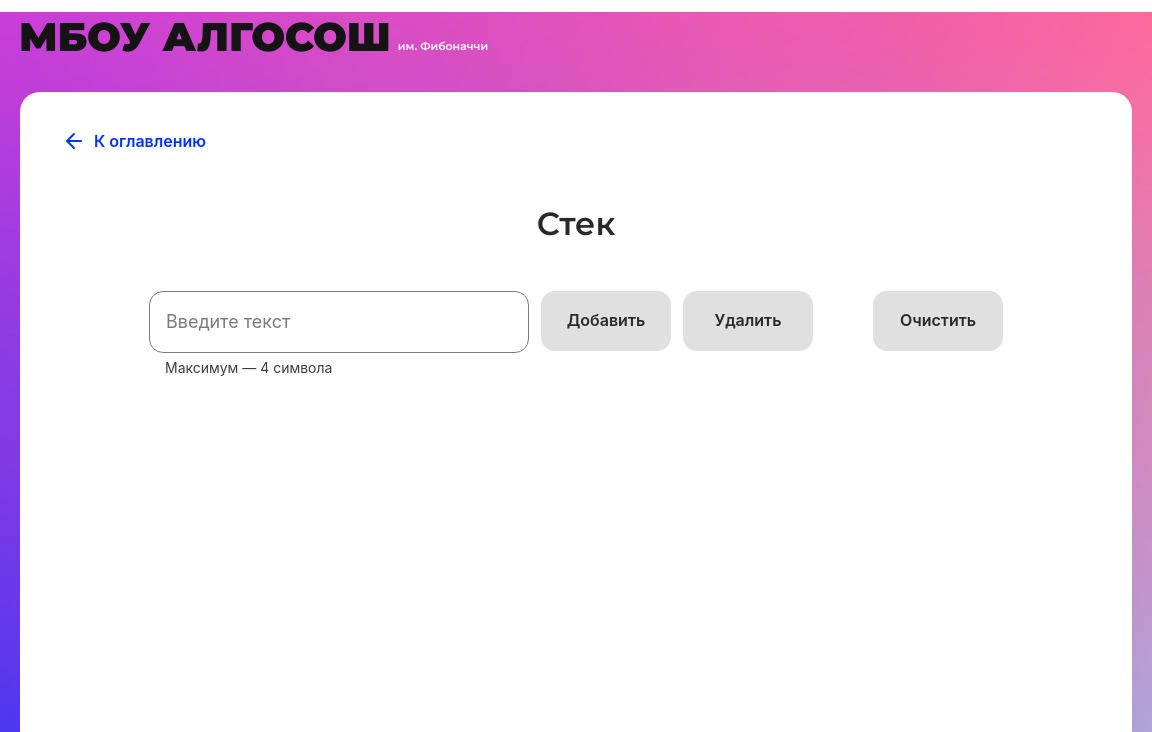
stack works right › stack fills right
This screenshot has width=1152, height=732.
Type "1" into the field with test id "mainInput". click: (339, 322)
box: [149,291,529,353]
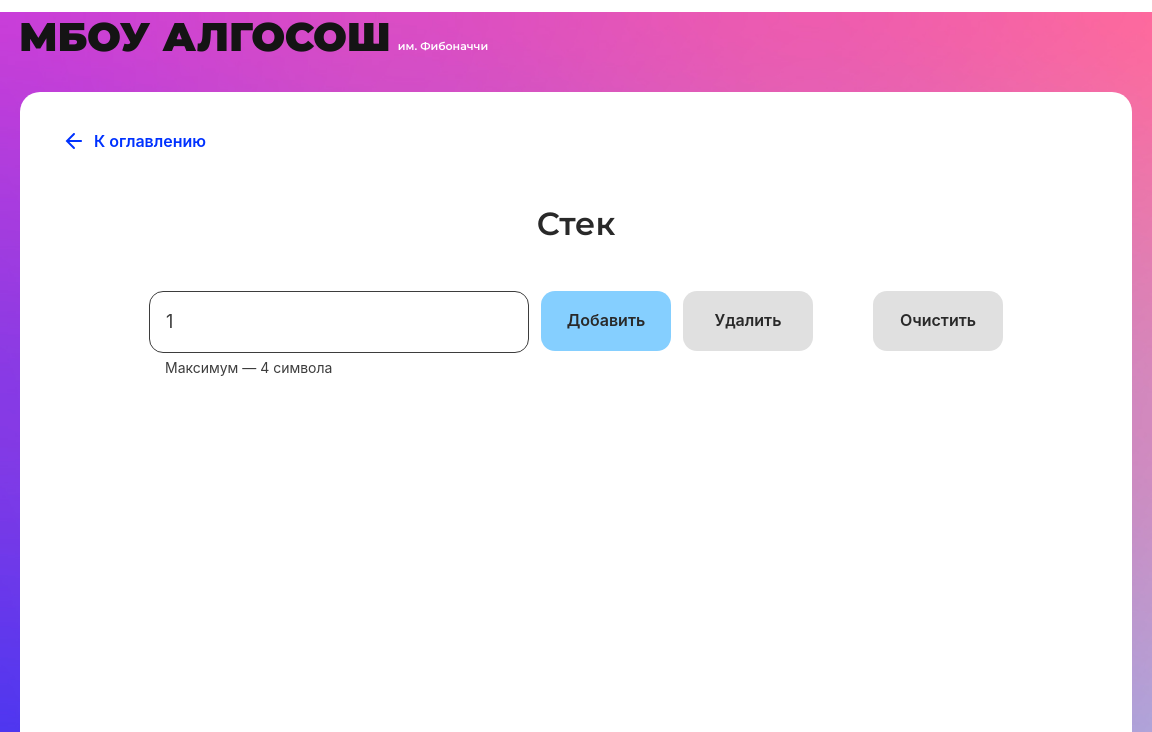
Click the button with test id "actionButton". click: click(606, 321)
box: [541,291,671,351]
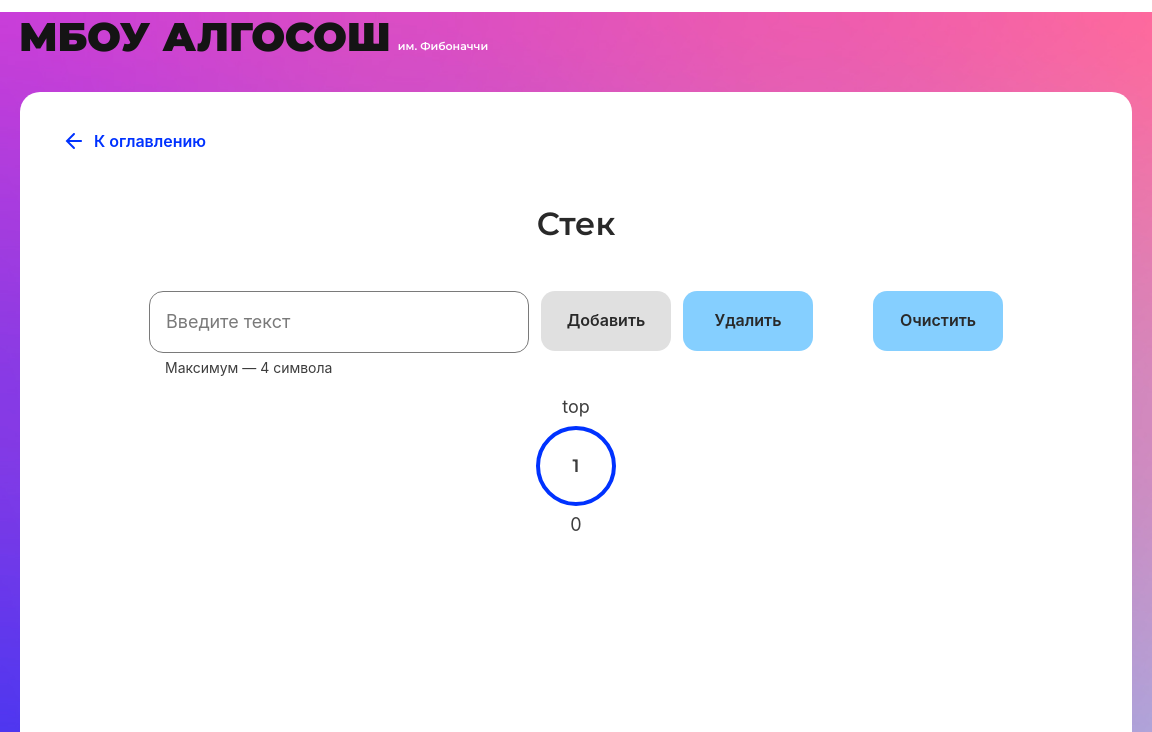
Result: the element with test id "circle" is shown at [536,426,616,506]
Result: the text with test id "circleInsides" reads "1" at [573,455,580,477]
Result: the text with test id "circleHead" reads "top" at [562,396,590,417]
Type "2" into the field with test id "mainInput". click: (339, 322)
box: [149,291,529,353]
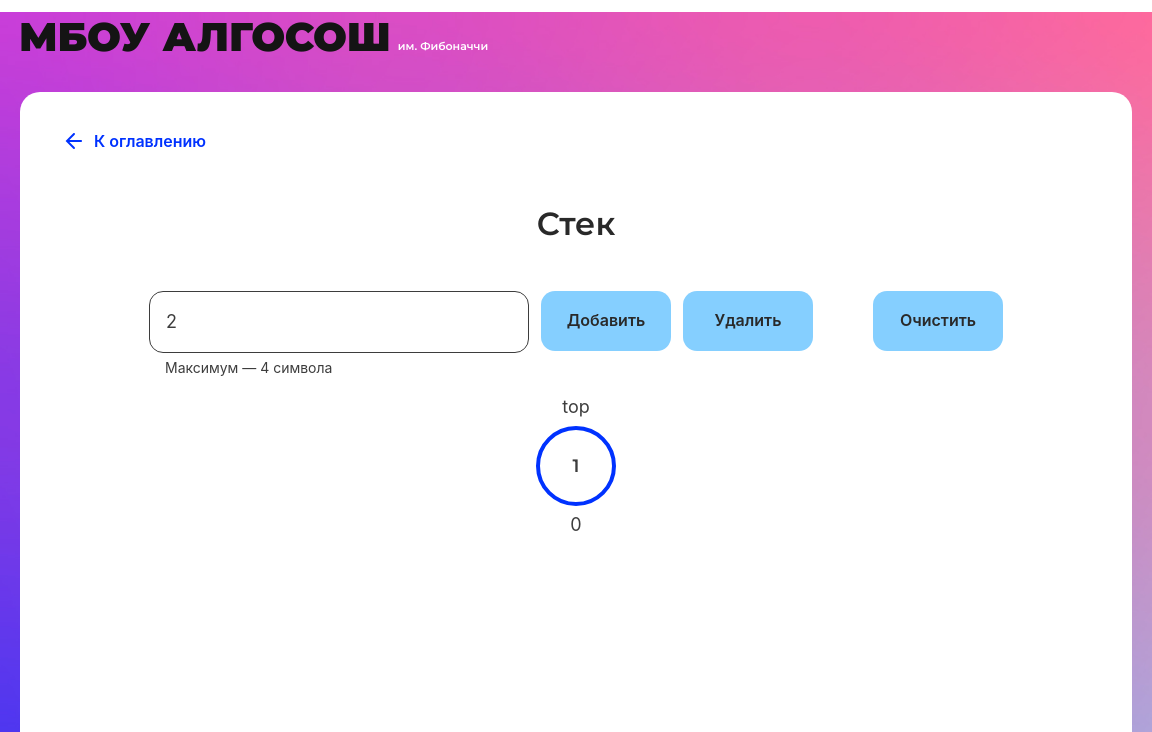
Click the button with test id "actionButton". click: click(606, 321)
box: [541,291,671,351]
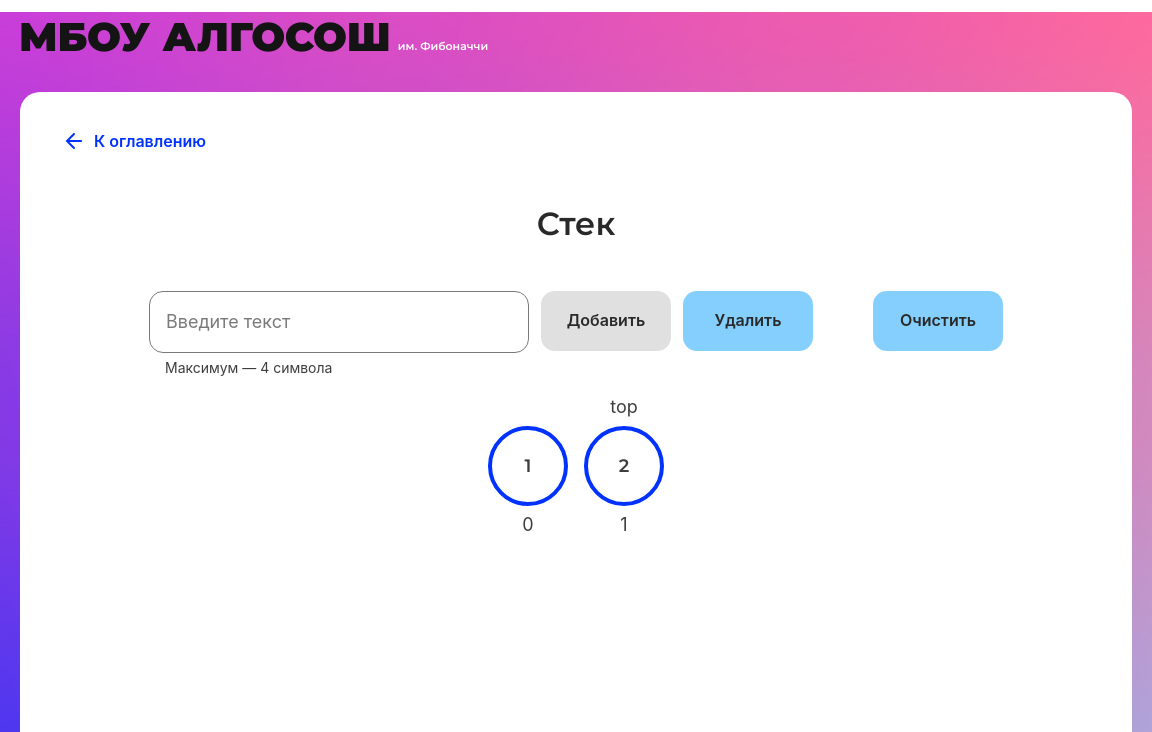
Result: the text with test id "circleHead" reads "top" at [610,396,638,417]
Result: the number of elements with test id "circle" is 2 at [488,426,568,506]; [584,426,664,506]
Result: the text with test id "circleInsides" reads "2" at [619,455,629,477]
